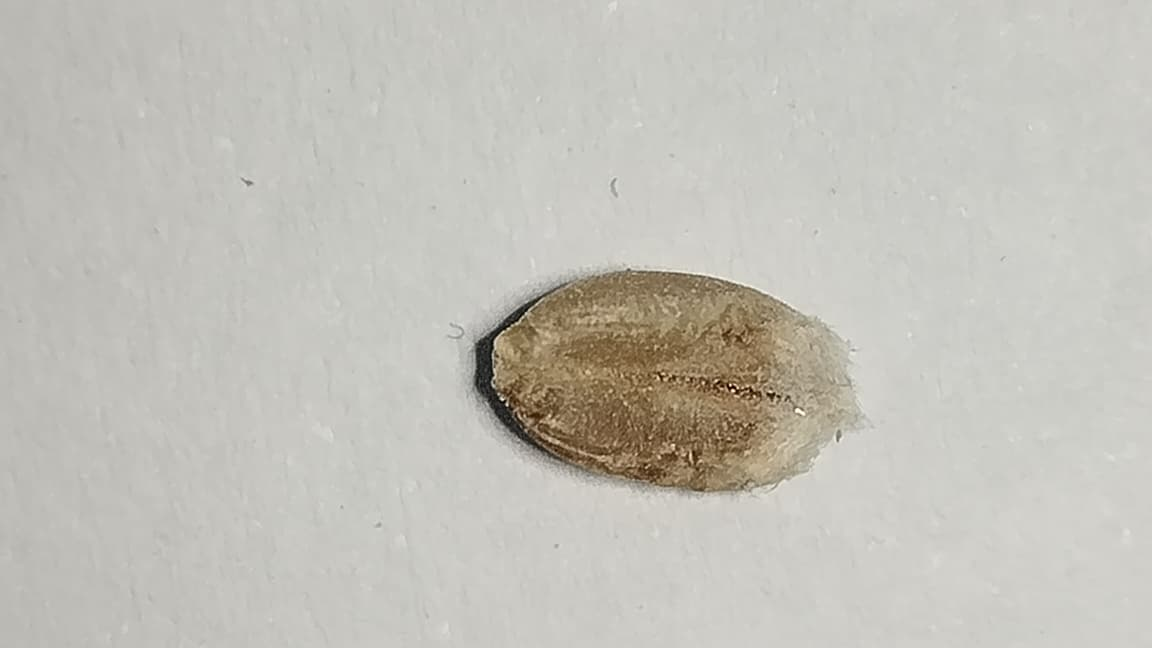staindamage: (477, 270, 858, 490)
